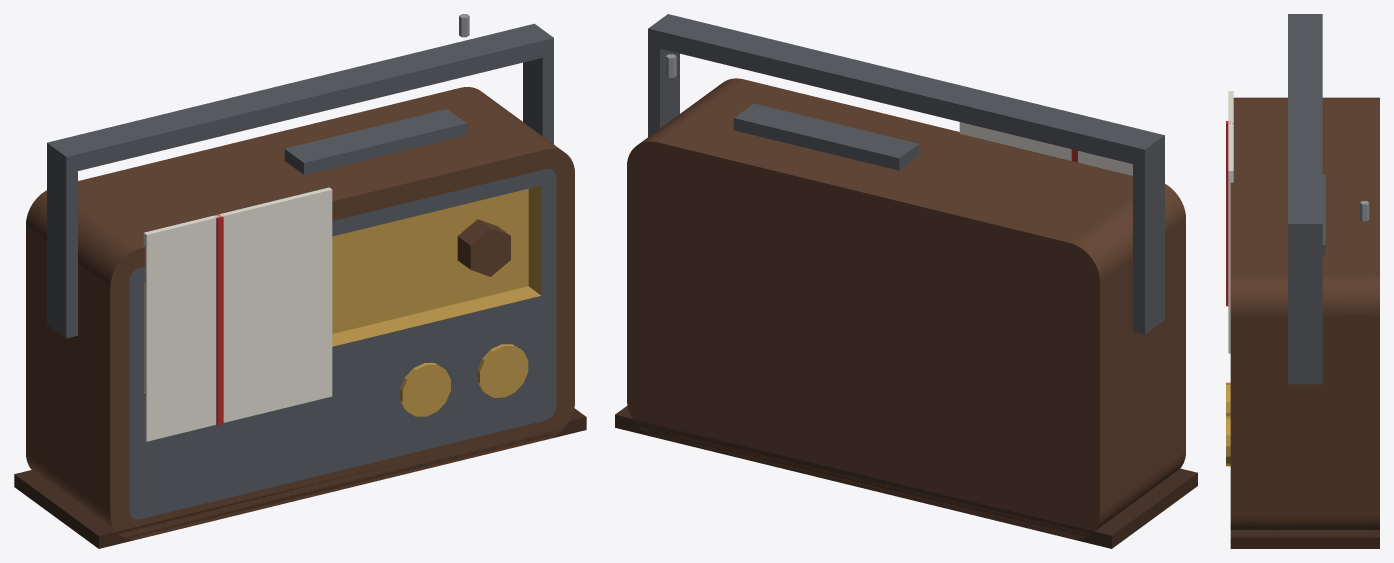
Rendered from radio.glb.
3 views of the same model, side by side, from view 1: azimuth 30°, elevation 25°; view 2: azimuth 150°, elevation 25°; view 3: azimuth 270°, elevation 25° (orthographic). The views are drawn at different scales.
Parts seen in each view (by area): view 1: radio(Clone); view 2: radio(Clone); view 3: radio(Clone).
Boxes of the visible parts, x1,y1,x2,y2 form: radio(Clone): (14, 14, 586, 548); radio(Clone): (615, 14, 1197, 548); radio(Clone): (1226, 14, 1379, 548).
Bounding box in the file's own units: 0.315 × 0.2282 × 0.0975.
